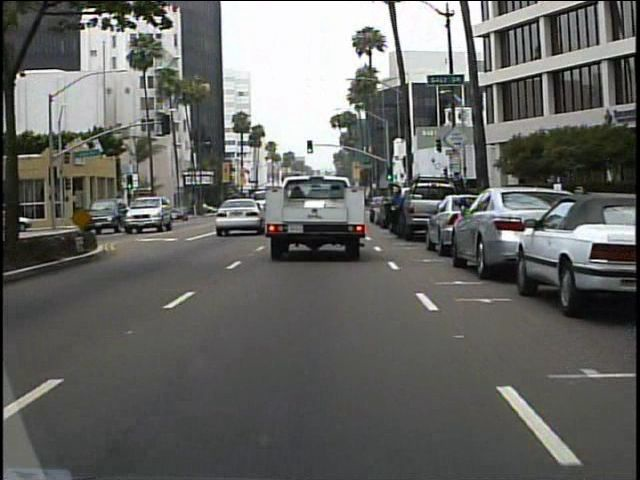person: (384, 184, 407, 237)
